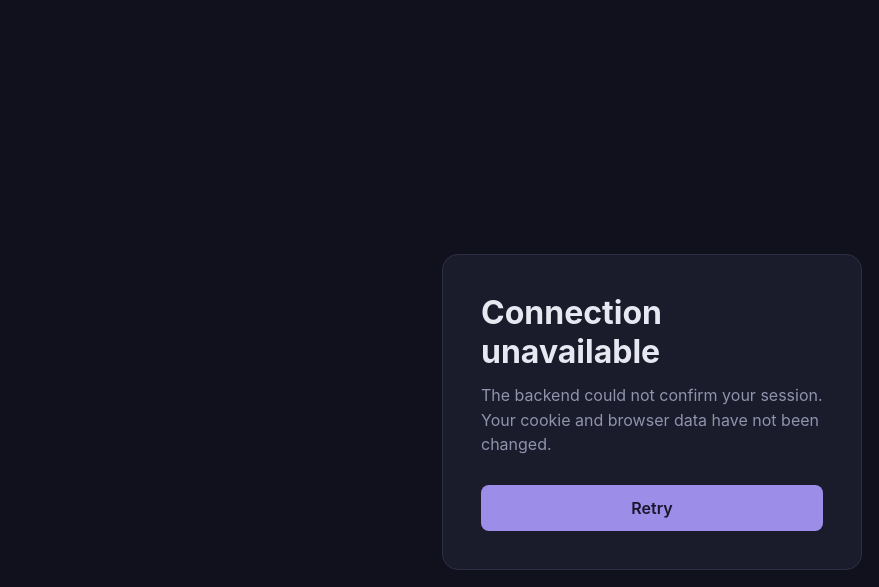
Test: shows an outage retry gate without clearing data or calling it a bad password
The width and height of the screenshot is (879, 587).
Expected: the heading "Connection unavailable" is shown, [481,293,662,371]
Click the button "Retry" at [652, 508], box [481,485,823,531]
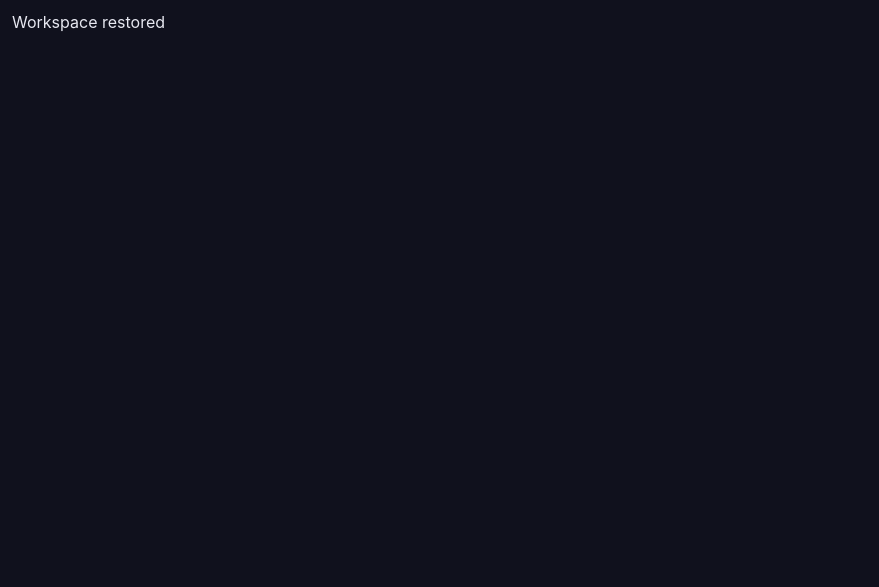
Expected: the text "Workspace restored" is shown, [12,12,165,32]
